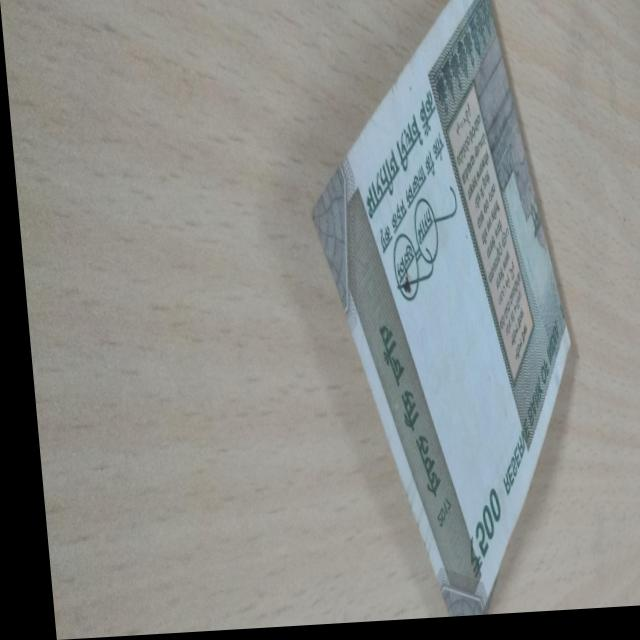Currency: (251, 0, 614, 628)
